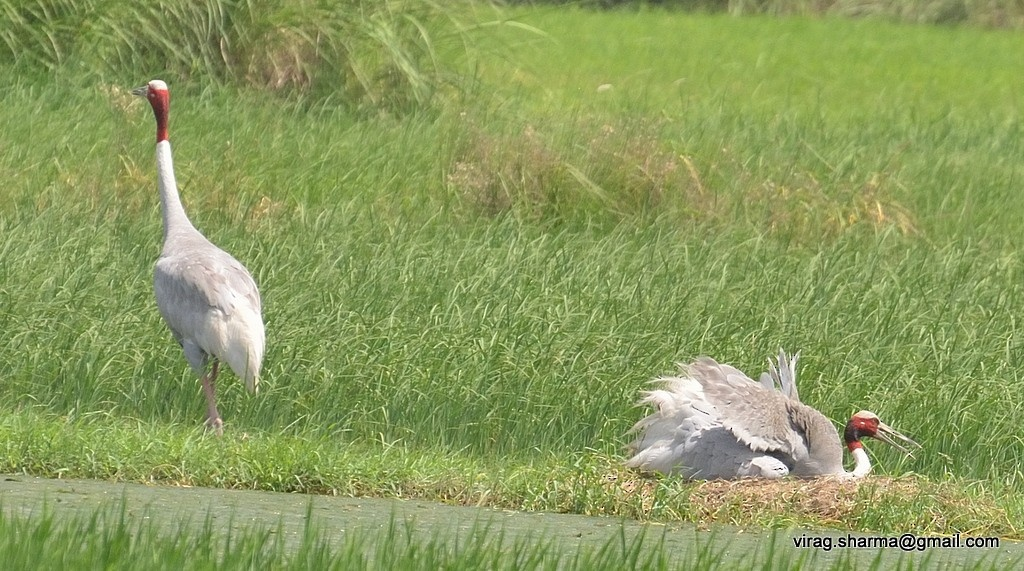crane: (130, 78, 289, 443), (621, 335, 948, 489)
